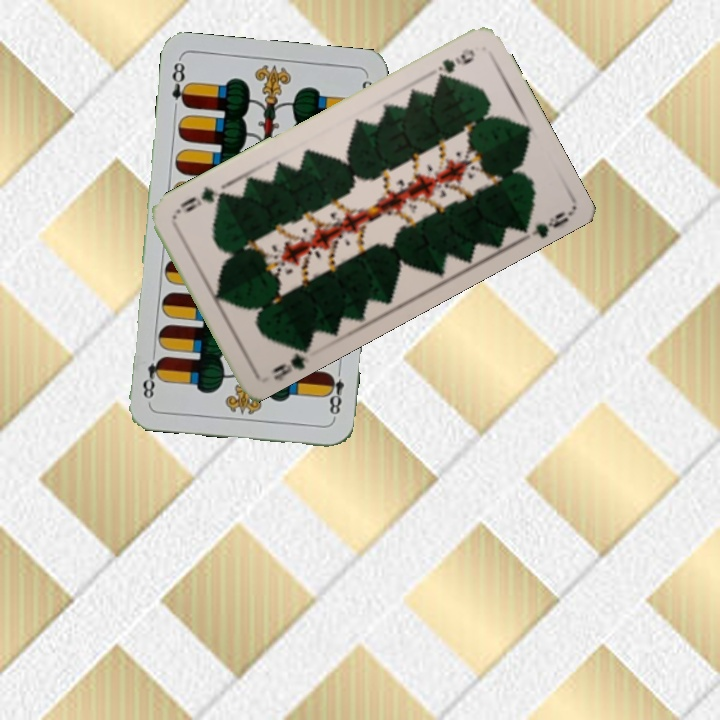E8: (322, 363, 347, 422), (168, 56, 192, 110)
G9: (268, 342, 312, 383), (433, 44, 478, 83)
